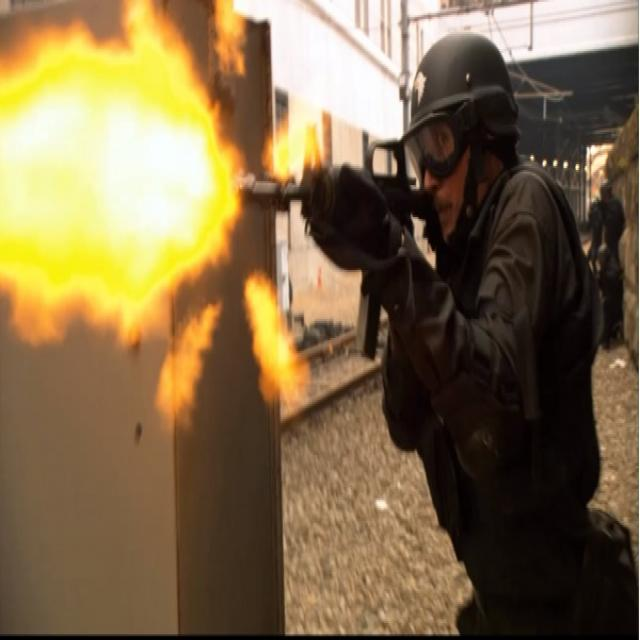rifle: (229, 129, 432, 369)
